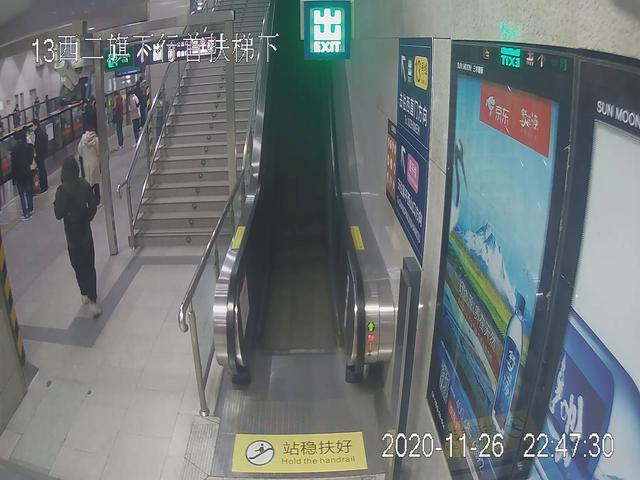person: (55, 155, 106, 318), (73, 126, 108, 214), (12, 132, 35, 219), (30, 116, 51, 192), (128, 86, 143, 152), (111, 91, 126, 153)
